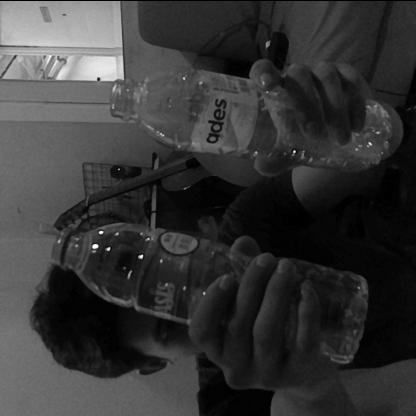plastic_bottles: (53, 225, 365, 359), (110, 69, 396, 171)
